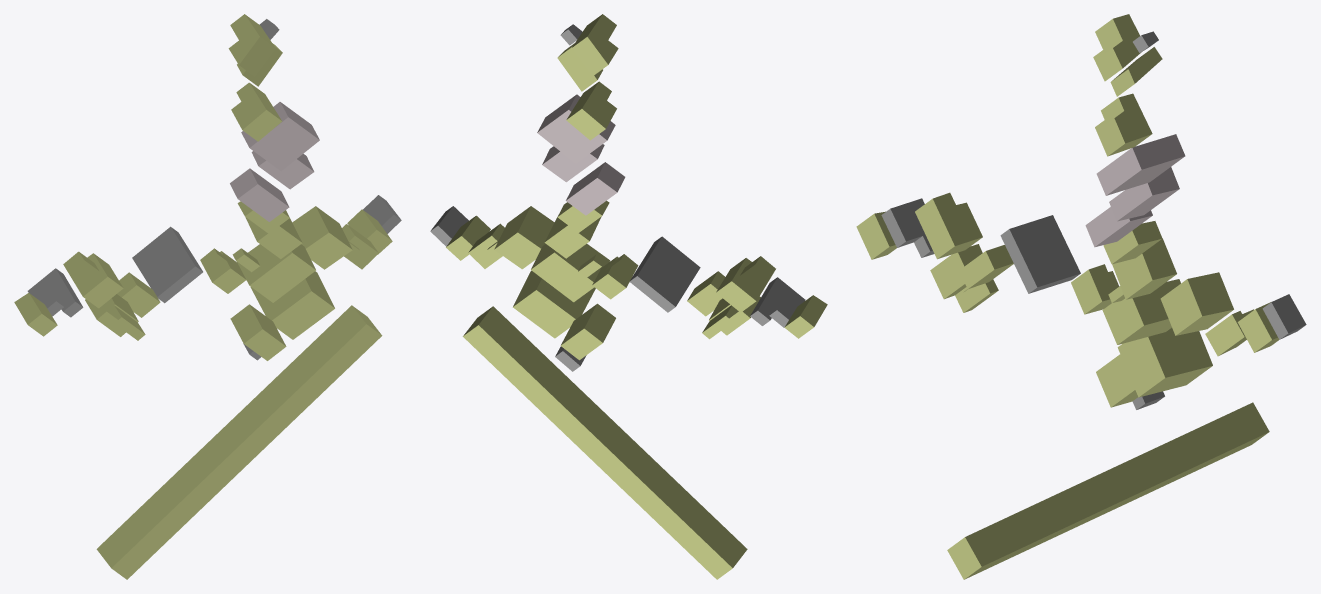
The picture shows the model from 3 angles, left to right: view 1: azimuth 30°, elevation 25°; view 2: azimuth 150°, elevation 25°; view 3: azimuth 330°, elevation 25°; orthographic projection. The views are drawn at different scales.
Parts seen in each view (by area): view 1: 0_1_1_3_2_2_3_3; view 2: 0_1_1_3_2_2_3_3; view 3: 0_1_1_3_2_2_3_3.
Part boxes in pixels (x1,y1,x2,y2): 0_1_1_3_2_2_3_3: [14, 14, 401, 579]; 0_1_1_3_2_2_3_3: [430, 14, 827, 579]; 0_1_1_3_2_2_3_3: [856, 14, 1306, 579].
Size of the model in its own units: 83.29 by 109 by 12.6.
